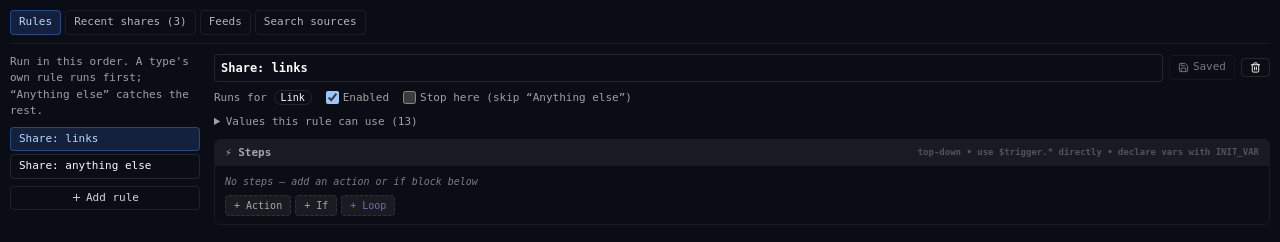
Scenario: ImportsTab — rules › the catch-all cannot be deleted from here (D3) — only turned off
The image size is (1280, 242).
Click the button "Share: anything else": (105, 166) x1=10 y1=154 x2=200 y2=178
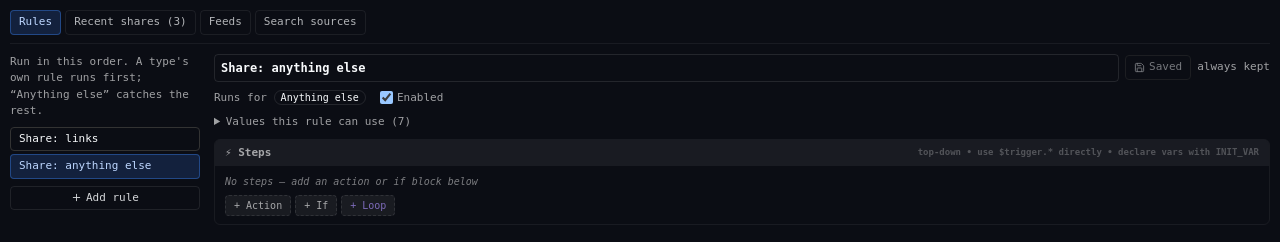
Expected: the text "always kept" is shown, x1=1197 y1=59 x2=1270 y2=76
